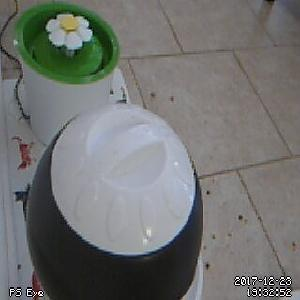fountain: (13, 4, 120, 86)
